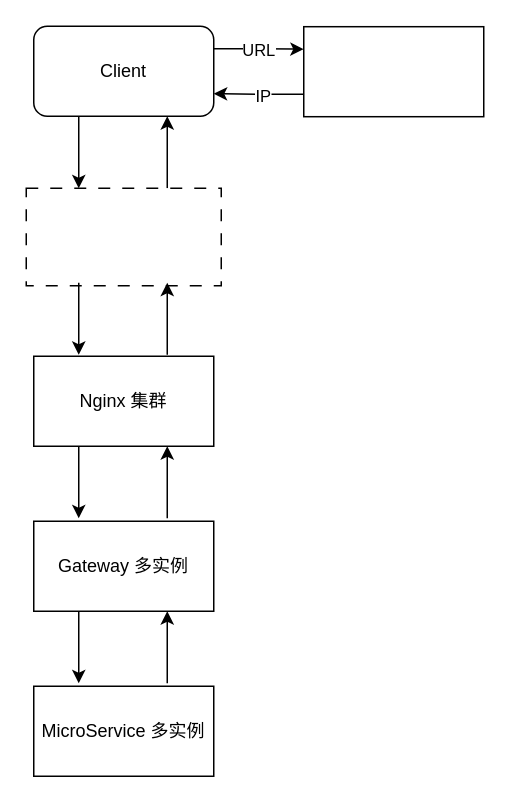
Some shapes in this 510 by 803 pixel diagram are drawn without their labels. The shapes that lost their labels are listed below. From the top down, each one's box as (x1, y1, x2, y2) in pixels, then its label:
(302, 25, 484, 117): DNS 解析
(25, 187, 221, 286): Cloud Load Balancer （可选）
